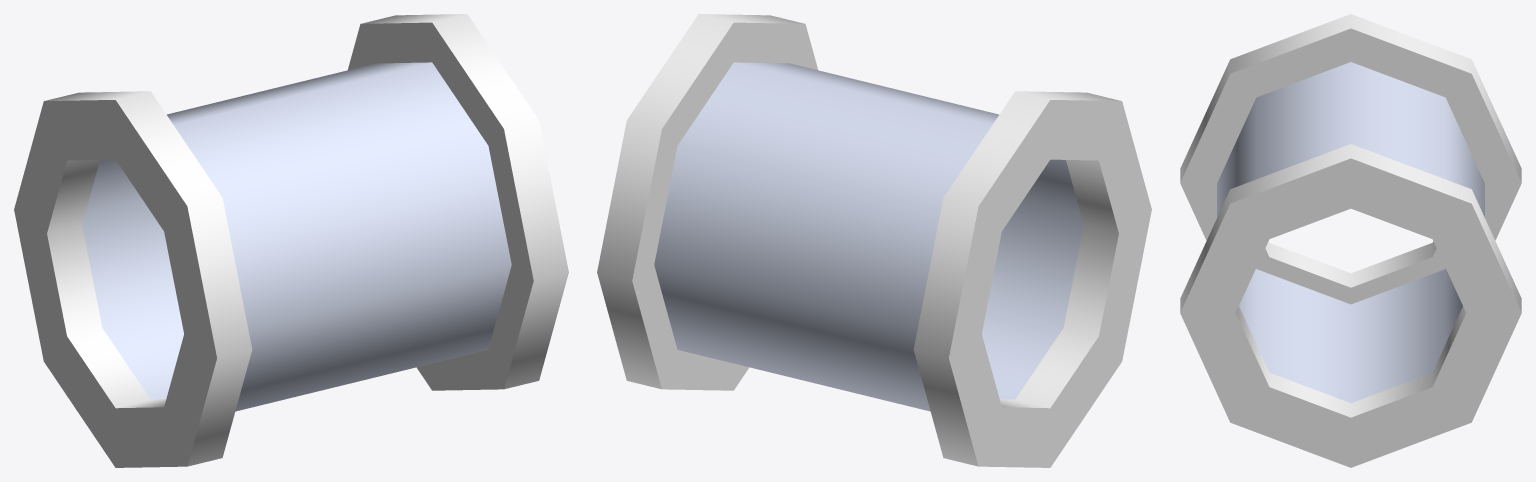
The model's file is pipe-glass-large.glb.
The picture shows the model from 3 angles, left to right: view 1: azimuth 30°, elevation 25°; view 2: azimuth 150°, elevation 25°; view 3: azimuth 270°, elevation 25°; orthographic projection. The views are drawn at different scales.
Visible parts, largest first — view 1: pipe-glass-large; view 2: pipe-glass-large; view 3: pipe-glass-large.
Boxes of the visible parts, x1,y1,x2,y2 form: pipe-glass-large: [14, 14, 568, 467]; pipe-glass-large: [597, 14, 1151, 467]; pipe-glass-large: [1180, 14, 1521, 467].
Bounding box in the file's own units: 1 × 1 × 1.
